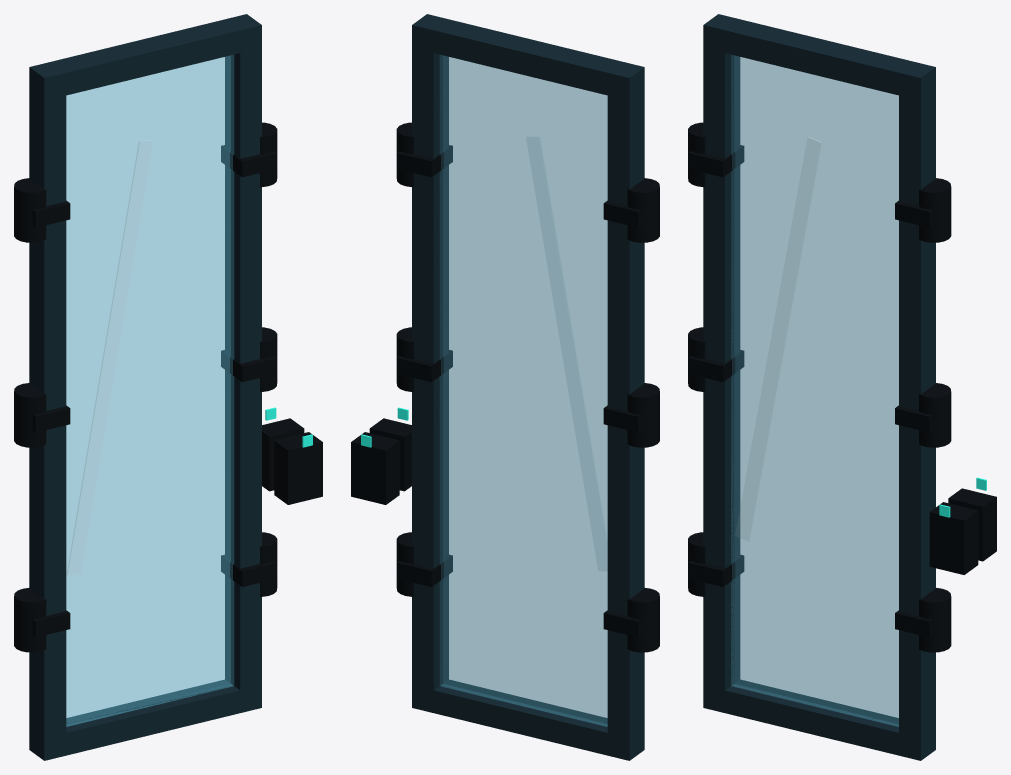
File: screen_window_1pan_2level.glb
3 views of the same model, side by side, from view 1: azimuth 30°, elevation 25°; view 2: azimuth 150°, elevation 25°; view 3: azimuth 330°, elevation 25° (orthographic).
Parts seen in each view (by area): view 1: Glass_Pane_1, Frame_Right, Frame_Left, Frame_Top, Frame_Bottom, Reflection_Stripe_1, Control_Front_Box, Hinge_Left_0.5, Hinge_Left_0.2, Hinge_Left_0.8, Control_Back_Box, Hinge_Brace_1_0.8 (+8 smaller); view 2: Glass_Pane_1, Frame_Right, Frame_Left, Frame_Top, Frame_Bottom, Control_Back_Box, Hinge_Left_0.5, Hinge_Left_0.2, Hinge_Left_0.8, Control_Front_Box, Hinge_Brace_1_0.8, Hinge_Brace_1_0.2 (+7 smaller); view 3: Glass_Pane_1, Frame_Left, Frame_Right, Frame_Top, Frame_Bottom, Reflection_Stripe_1, Control_Front_Box, Hinge_Right_0.5, Hinge_Right_0.2, Hinge_Right_0.8, Control_Back_Box, Hinge_Brace_-1_0.8 (+8 smaller).
Boxes of the visible parts, x1,y1,x2,y2 form: Glass_Pane_1: (66,55,233,726); Frame_Right: (225,48,261,690); Frame_Left: (29,90,66,737); Frame_Top: (29,14,261,100); Frame_Bottom: (29,679,261,760); Reflection_Stripe_1: (67,140,152,574); Control_Front_Box: (274,432,322,504); Hinge_Left_0.5: (14,383,46,447); Hinge_Left_0.2: (14,588,46,652); Hinge_Left_0.8: (14,178,46,242); Control_Back_Box: (262,418,304,491); Hinge_Brace_1_0.8: (221,145,276,177); Glass_Pane_1: (440,55,607,726); Frame_Right: (412,48,448,690); Frame_Left: (607,90,644,737); Frame_Top: (412,14,644,100); Frame_Bottom: (412,679,644,760); Control_Back_Box: (351,432,399,504); Hinge_Left_0.5: (627,383,659,447); Hinge_Left_0.2: (627,588,659,652); Hinge_Left_0.8: (627,178,659,242); Control_Front_Box: (369,418,411,491); Hinge_Brace_1_0.8: (397,145,452,177); Hinge_Brace_1_0.2: (397,554,452,586); Glass_Pane_1: (731,55,898,726); Frame_Left: (703,48,740,690); Frame_Right: (899,90,935,737); Frame_Top: (703,14,935,100); Frame_Bottom: (703,679,935,760); Reflection_Stripe_1: (735,137,821,541); Control_Front_Box: (929,502,978,574); Hinge_Right_0.5: (919,383,951,447); Hinge_Right_0.2: (919,588,951,652); Hinge_Right_0.8: (919,178,951,242); Control_Back_Box: (948,488,996,561); Hinge_Brace_-1_0.8: (688,145,744,177).
Bounding box in the file's own units: 1.33 × 3 × 0.3008.
